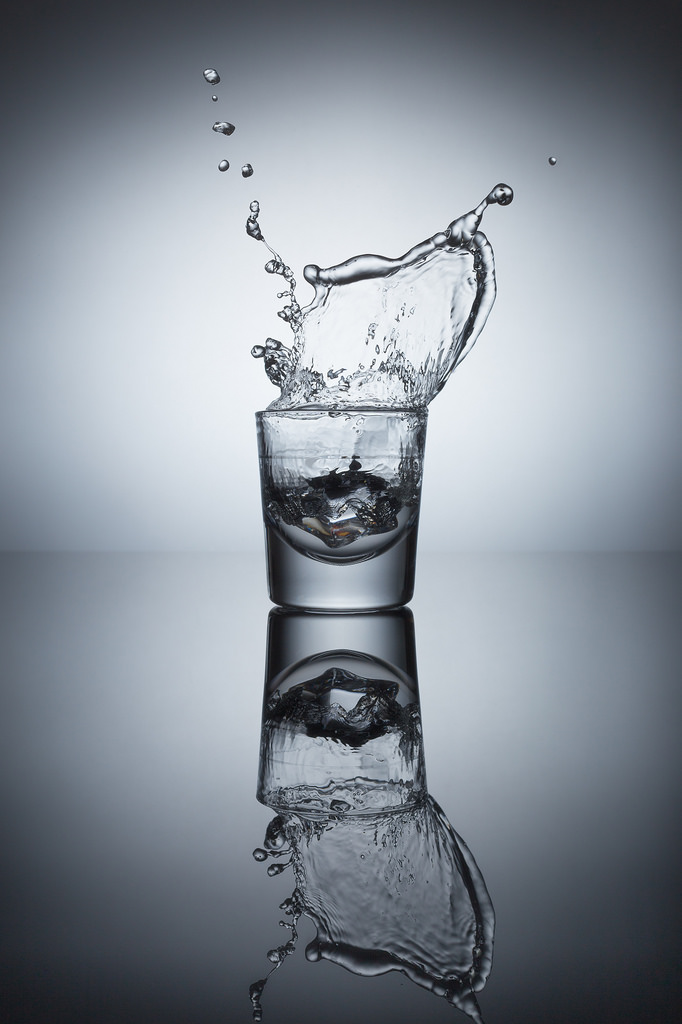glass of water: (254, 325, 422, 613)
